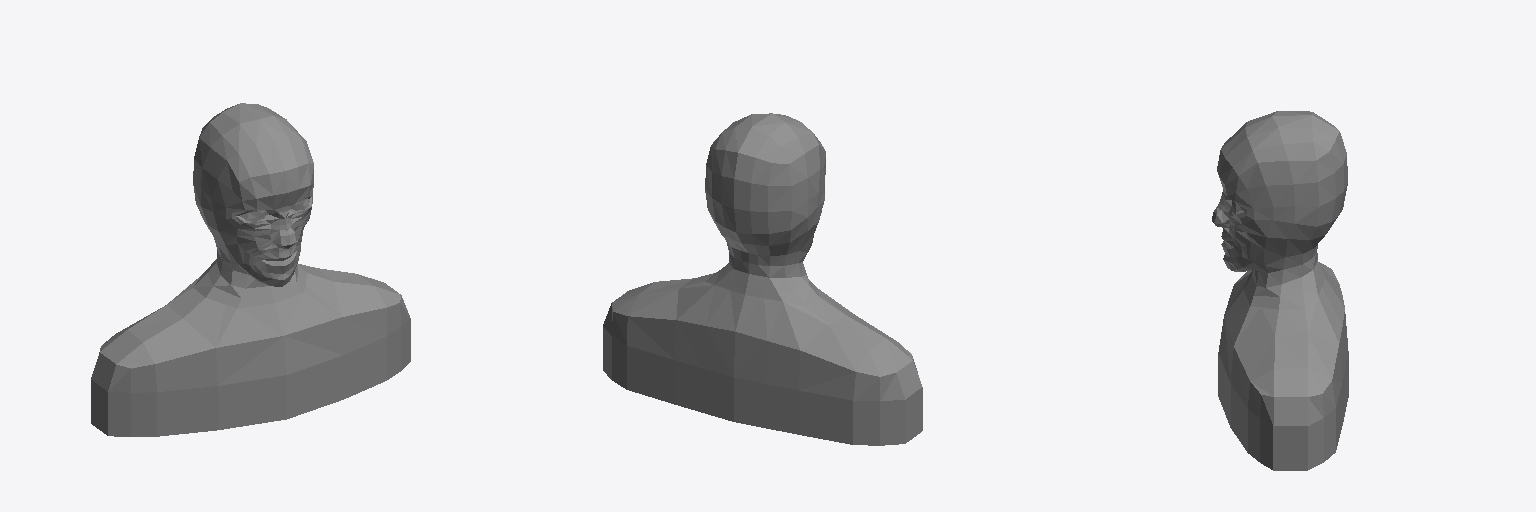
File: HEAD.obj
3 views of the same model, side by side, from view 1: azimuth 30°, elevation 25°; view 2: azimuth 150°, elevation 25°; view 3: azimuth 270°, elevation 25° (orthographic).
Visible parts, largest first — view 1: wloski; view 2: wloski; view 3: wloski.
Boxes of the visible parts, <box> form: wloski: <box>91,103,410,436</box>; wloski: <box>603,113,922,445</box>; wloski: <box>1212,111,1348,470</box>.
Bounding box in the file's own units: 21.05 × 18.74 × 8.27.